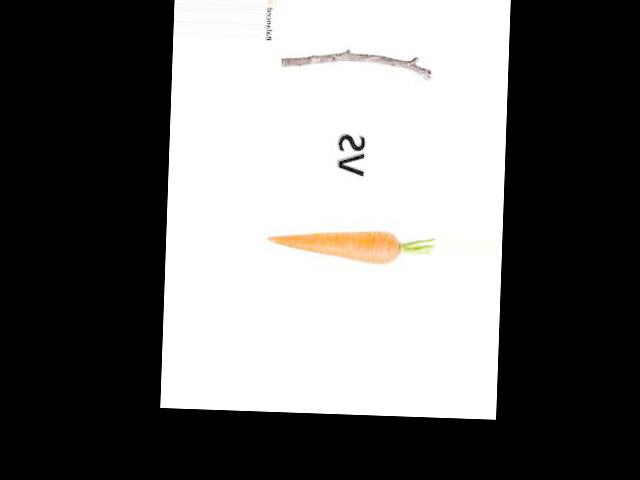carrot: (262, 217, 404, 271)
